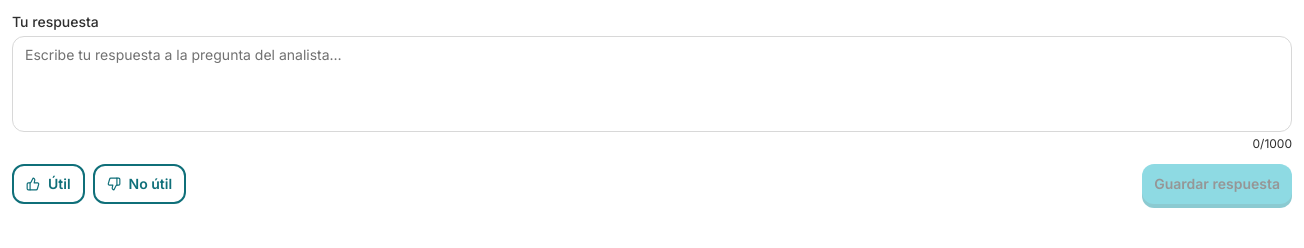
CoachAnswerForm › muestra el error del servidor cuando la calificación falla
Click the button with aria-label "Marcar insight como útil" at (48, 184), box [12,164,85,204]
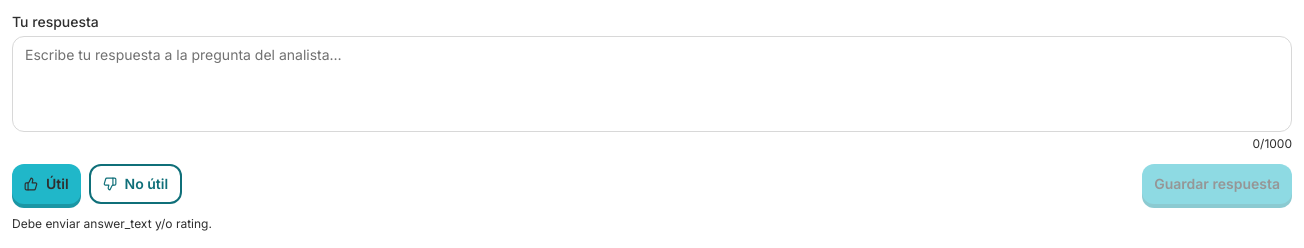
Expected: the text "Debe enviar answer_text y/o rating." is shown, [12,216,212,231]
